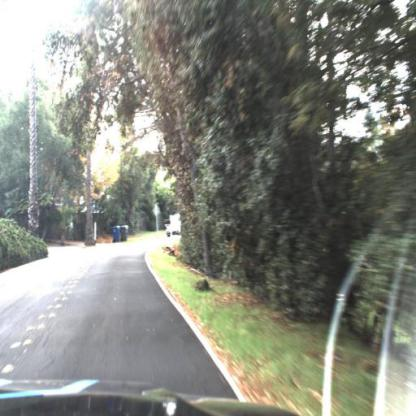car: (164, 209, 185, 244)
